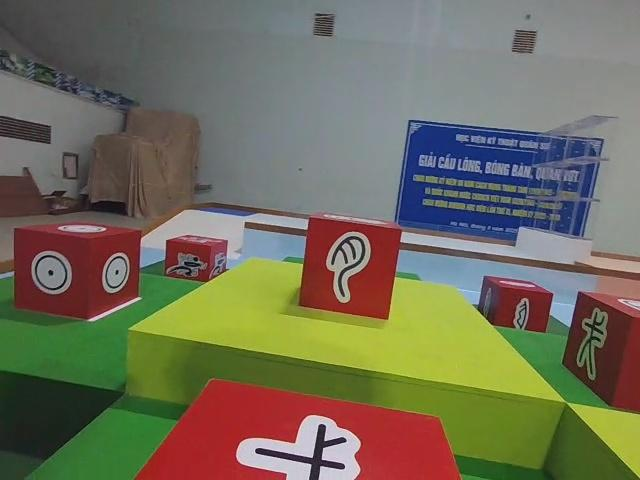R1: (164, 235, 228, 283)
R2 Fake: (298, 214, 401, 323), (559, 288, 640, 408)
R2 Real: (133, 380, 459, 480), (12, 221, 143, 319), (478, 277, 553, 337)
